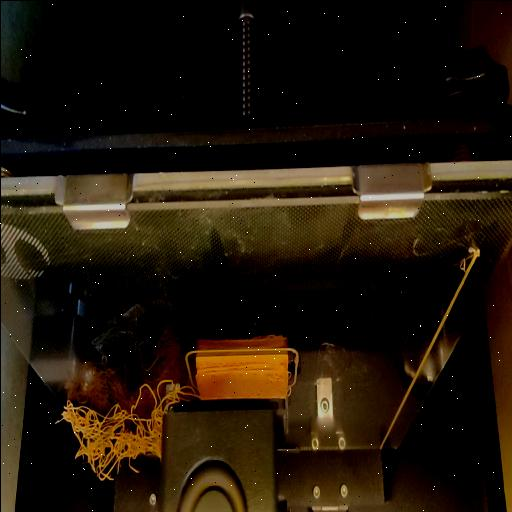spaghetti: (56, 380, 162, 480), (162, 377, 190, 405)
